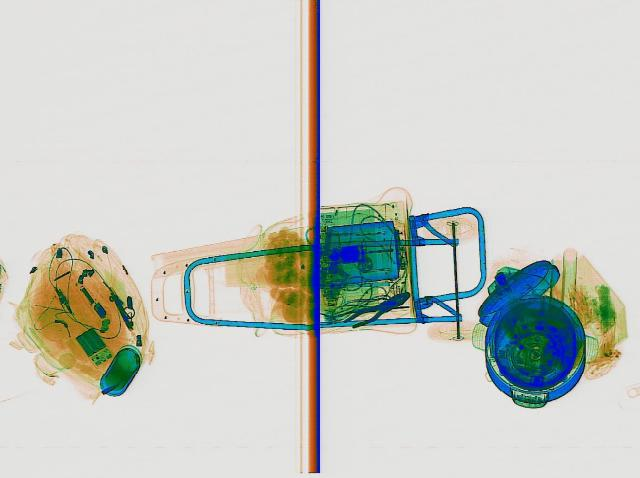Pliers: (336, 288, 412, 330)
